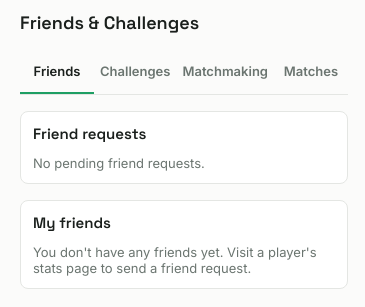
Scenario: FriendsScreen › REQ-1402 (S-230): switching away from and back to the "Challenges" tab refetches, rather than reusing stale mount-once data
Expected: the text "No pending friend requests." is shown, x1=33 y1=155 x2=205 y2=171
What coordinates should you click on to do the following:
click the tab "Challenges"
I would click on:
 (135, 72)
Its box is x1=94 y1=50 x2=176 y2=94.
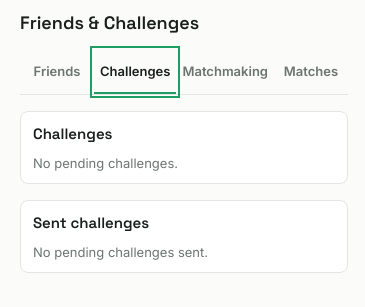
Expected: the text "No pending challenges sent." is shown, x1=33 y1=244 x2=208 y2=260
What coordinates should you click on to do the following:
click the tab "Friends"
I would click on:
 (57, 72)
Its box is x1=20 y1=50 x2=94 y2=94.
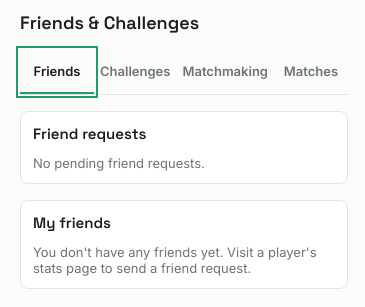
Expected: the text "No pending challenges sent." is gone
What coordinates should you click on to do the following:
click the tab "Challenges"
I would click on:
 (135, 72)
Its box is x1=94 y1=50 x2=176 y2=94.
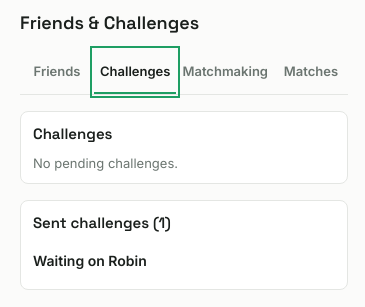
Expected: the text "Waiting on Robin" is shown, x1=33 y1=252 x2=147 y2=269
